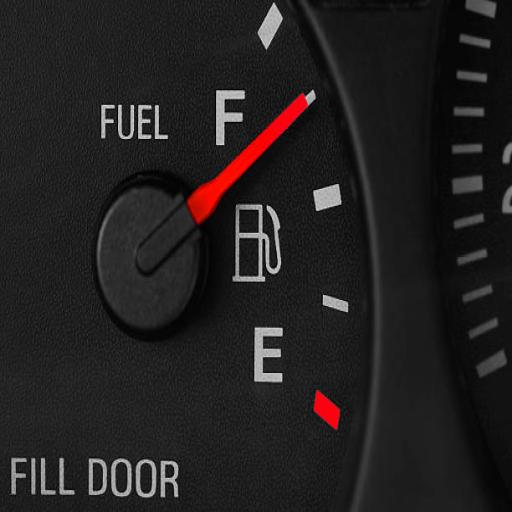empty: (246, 321, 290, 391)
fuel_icon: (228, 201, 287, 289)
full: (208, 87, 247, 152)
guage_area: (4, 0, 408, 512)
needle_center: (83, 170, 225, 342)
needle_tip: (280, 84, 309, 136)
